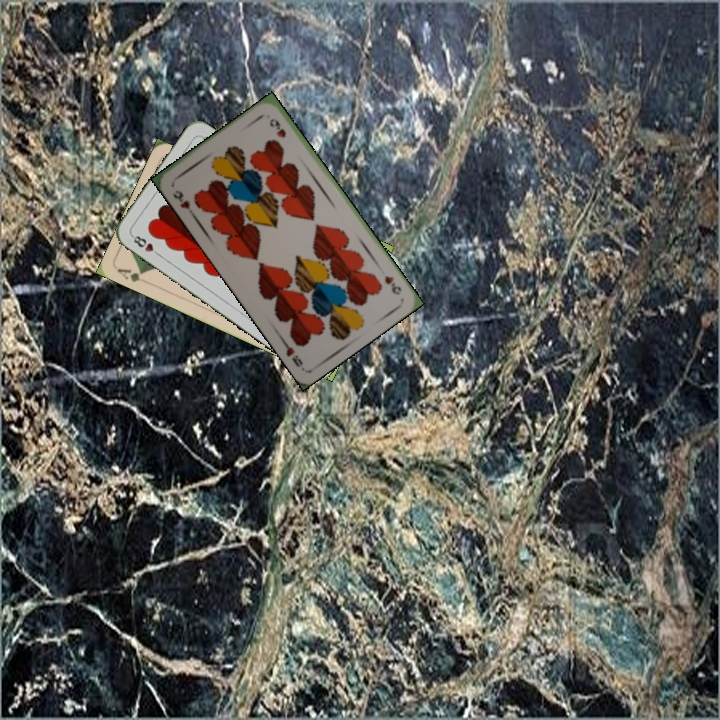GA: (113, 264, 148, 285)
H8: (128, 231, 163, 259)
H9: (169, 186, 196, 217), (380, 271, 404, 297)
